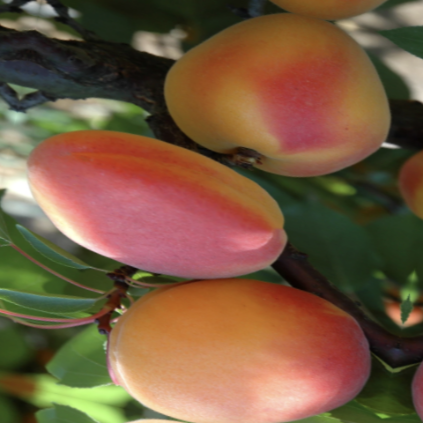mango: (5, 103, 308, 314), (129, 0, 423, 216), (79, 244, 401, 423)
